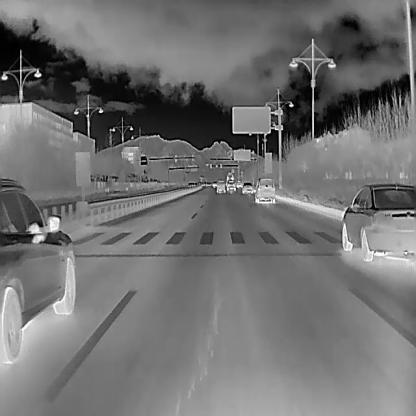car: (0, 177, 76, 363), (341, 181, 416, 261), (254, 178, 275, 203), (241, 182, 252, 193), (227, 179, 236, 191), (216, 180, 224, 193), (226, 172, 233, 182), (235, 179, 242, 187), (186, 180, 193, 188), (211, 179, 217, 187), (196, 181, 201, 185)
